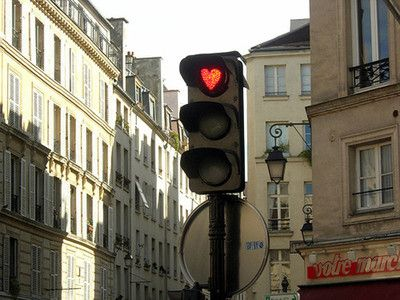trafficlight_red: (179, 52, 238, 193)
